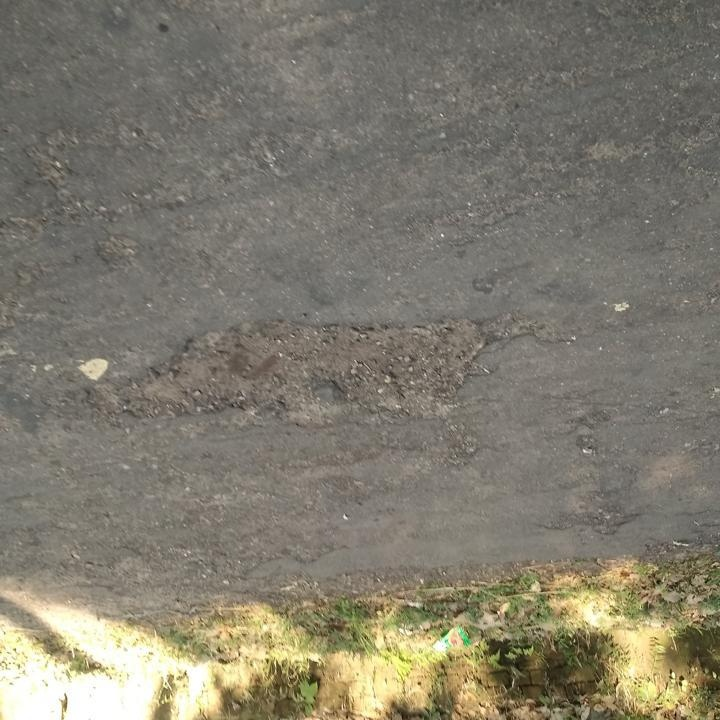pothole: (83, 308, 497, 430), (541, 510, 639, 538)
